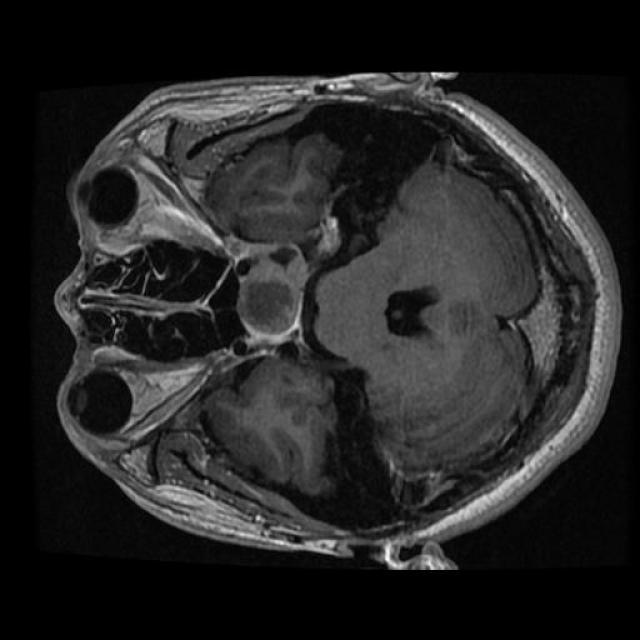Pituitary: (237, 254, 306, 338)
